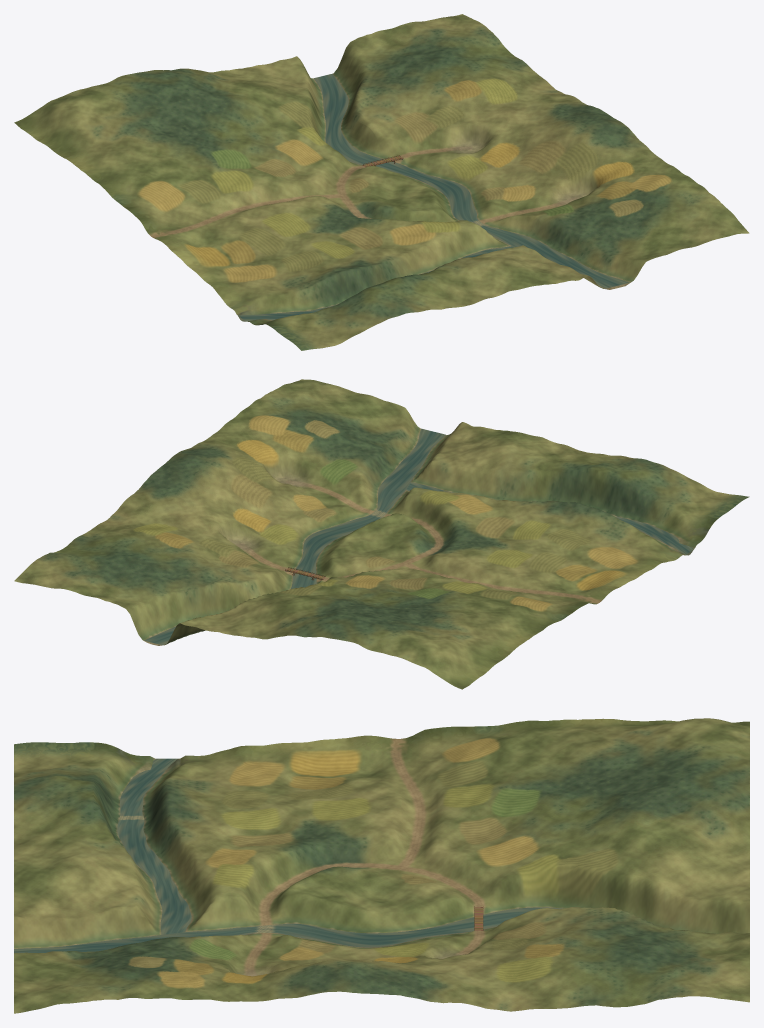
File: crossing.glb
3 renders of one model, top to bottom at view 1: azimuth 30°, elevation 25°; view 2: azimuth 150°, elevation 25°; view 3: azimuth 270°, elevation 25°, orthographic. The views are drawn at different scales.
Parts seen in each view (by area): view 1: CrossingGround, CrossingRiver; view 2: CrossingGround, CrossingRiver; view 3: CrossingGround, CrossingRiver.
Part boxes in pixels (box(x1,y1,x2,y2)): CrossingGround: box(14, 14, 749, 350); CrossingRiver: box(237, 73, 629, 321); CrossingGround: box(14, 379, 749, 689); CrossingRiver: box(144, 428, 693, 645); CrossingGround: box(14, 718, 749, 1013); CrossingRiver: box(14, 758, 562, 952).
Size of the model in its own units: 540 by 62.45 by 600.
Materials: 3 (2 with a texture image).
